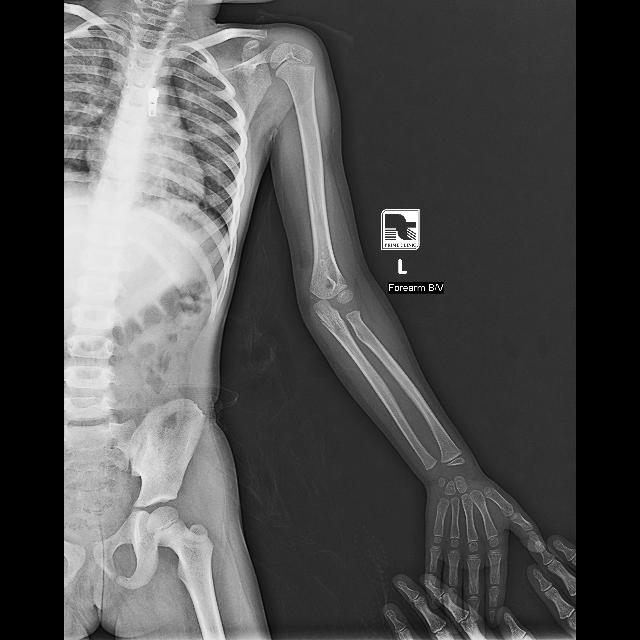Fracture: (315, 302, 352, 343)
